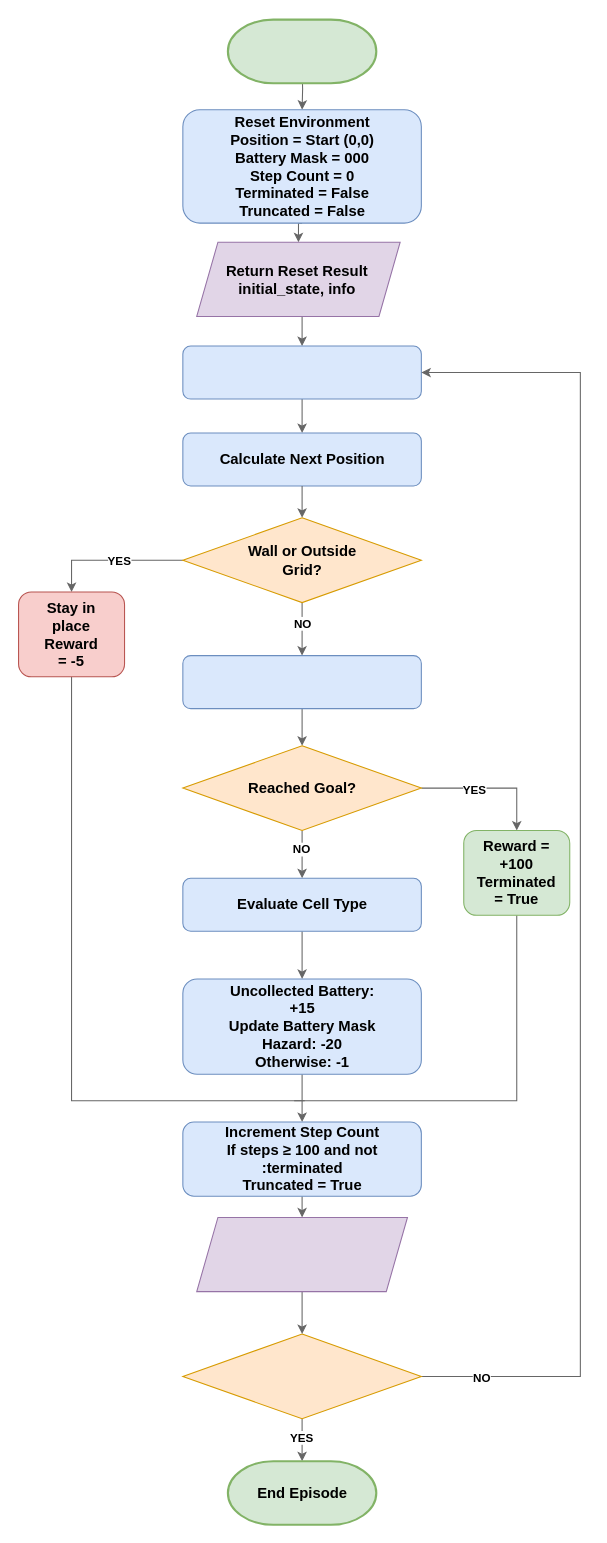
The diagram is 607 pixels wide and 1543 high, and some of its shapes have lost their labels. Here are the shapes that lost their labels. From the top down, the box of each, then its label:
(226, 18, 377, 84): Start
(182, 345, 421, 399): Receive Agent Action
(182, 655, 421, 709): Update Robot Position
(196, 1216, 407, 1292): Return Step Result next_state, reward, terminated, truncated, info
(182, 1333, 421, 1419): Terminated or Truncated?
